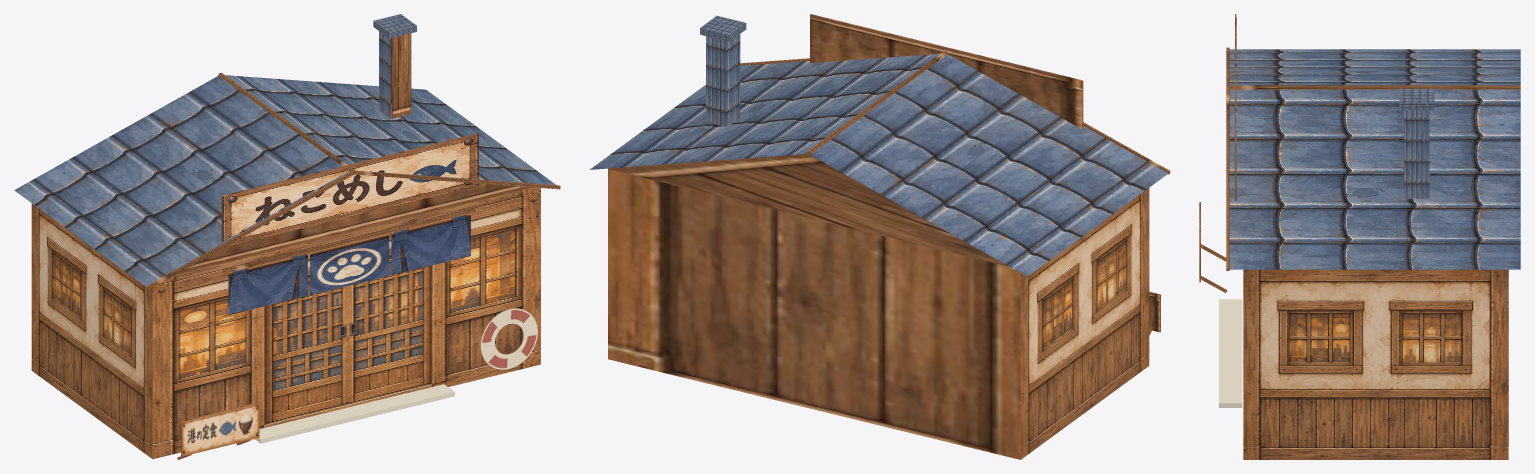
The model's file is nyanisyarud-harbor-diner.glb.
3 renders of one model, left to right at view 1: azimuth 30°, elevation 25°; view 2: azimuth 150°, elevation 25°; view 3: azimuth 270°, elevation 25°, orthographic. The views are drawn at different scales.
Parts seen in each view (by area): view 1: Nekomesi_Harbor_Diner; view 2: Nekomesi_Harbor_Diner; view 3: Nekomesi_Harbor_Diner.
Part boxes in pixels (x1,y1,x2,y2): Nekomesi_Harbor_Diner: (14,14,560,459); Nekomesi_Harbor_Diner: (589,14,1170,459); Nekomesi_Harbor_Diner: (1199,14,1520,459).
Bounding box in the file's own units: 3.45 × 2.39 × 2.12.
Materials: 1 (1 with a texture image).
